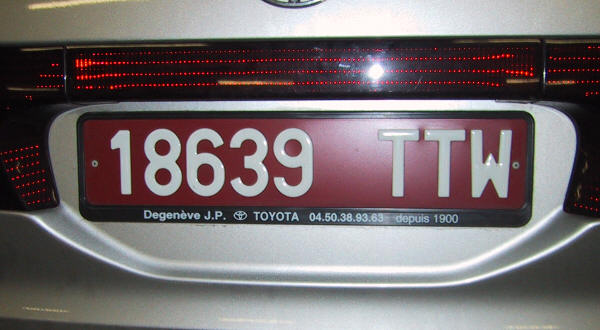license_plate: (77, 110, 534, 221)
